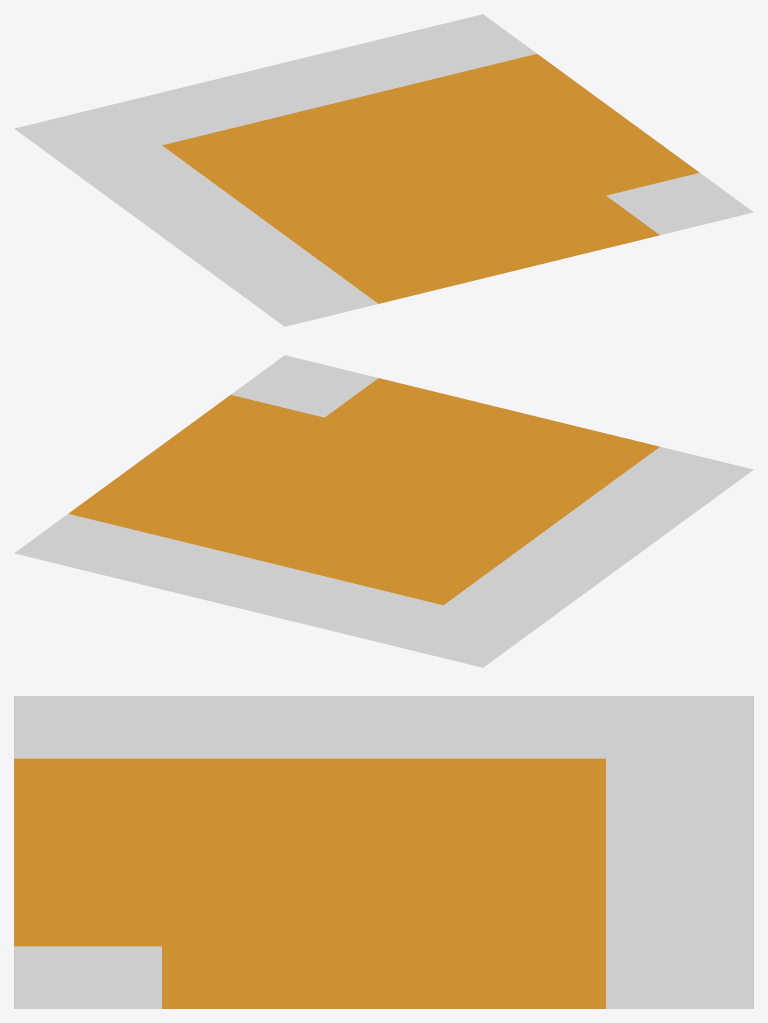
Rendered from Ground_Kurve.fbx.
The picture shows the model from 3 angles, top to bottom: view 1: azimuth 30°, elevation 25°; view 2: azimuth 150°, elevation 25°; view 3: azimuth 270°, elevation 25°; orthographic projection. The views are drawn at different scales.
Parts seen in each view (by area): view 1: Plane.001; view 2: Plane.001; view 3: Plane.001.
Boxes of the visible parts, x1,y1,x2,y2 form: Plane.001: (14, 14, 753, 326); Plane.001: (14, 355, 753, 667); Plane.001: (14, 696, 753, 1008).
Bounding box in the file's own units: 200 × 3.26e-05 × 200.
